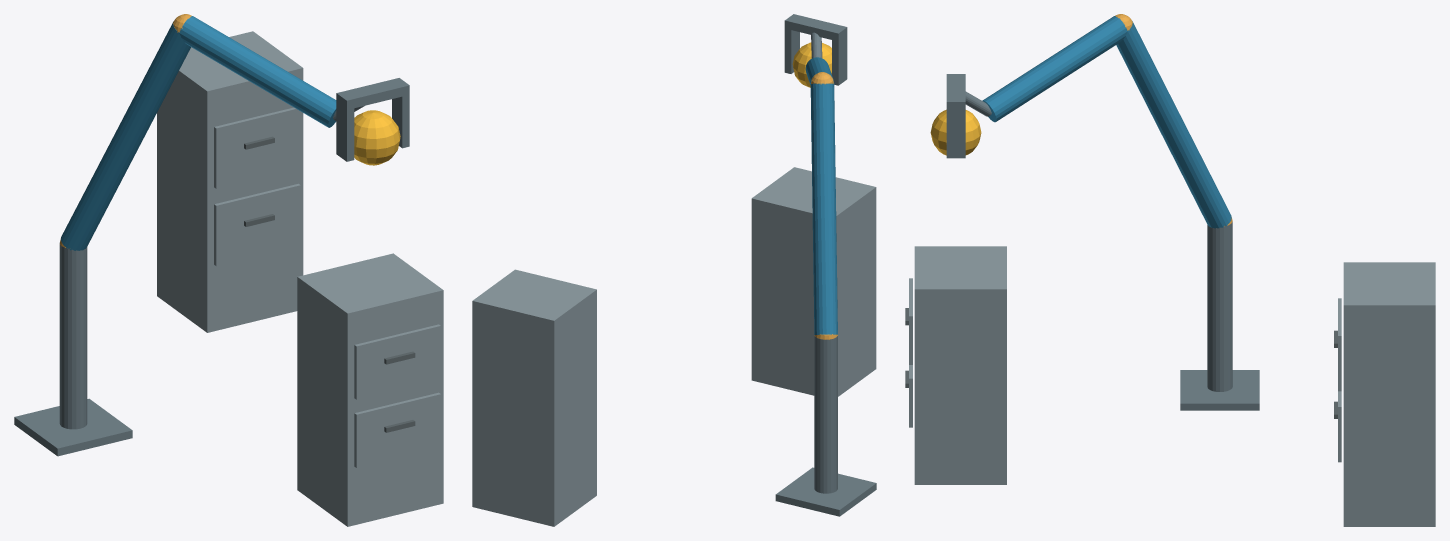
The picture shows the model from 3 angles, left to right: view 1: azimuth 30°, elevation 25°; view 2: azimuth 150°, elevation 25°; view 3: azimuth 270°, elevation 25°; orthographic projection. The views are drawn at different scales.
Visible parts, largest first — view 1: cabinet_1 body, cabinet_2 body, moving link 1, cabinet_2 drawer front, cabinet_2 drawer front.001, fixed post, moving link 2, cabinet_1 drawer front.001, cabinet_1 drawer front, pedestal, ball ball_1, gripper bridge (+2 smaller); view 2: cabinet_2 body, cabinet_1 body, moving link 1, fixed post, pedestal, gripper bridge, ball ball_1, gripper finger -1, gripper finger 1; view 3: cabinet_2 body, cabinet_1 body, moving link 1, fixed post, moving link 2, pedestal, ball ball_1, gripper finger 1, gripper bridge.
Part boxes in pixels (x1,y1,x2,y2): cabinet_1 body: [297, 253, 443, 526]; cabinet_2 body: [157, 31, 303, 332]; moving link 1: [60, 22, 190, 250]; cabinet_2 drawer front: [214, 183, 300, 266]; cabinet_2 drawer front.001: [214, 107, 300, 188]; fixed post: [59, 242, 87, 429]; moving link 2: [179, 16, 336, 127]; cabinet_1 drawer front.001: [354, 324, 440, 399]; cabinet_1 drawer front: [354, 392, 440, 467]; pedestal: [14, 398, 132, 456]; ball ball_1: [354, 110, 400, 165]; gripper bridge: [336, 78, 409, 109]; cabinet_2 body: [472, 269, 596, 526]; cabinet_1 body: [751, 167, 876, 396]; moving link 1: [810, 83, 837, 334]; fixed post: [814, 335, 837, 493]; pedestal: [775, 467, 876, 516]; gripper bridge: [784, 14, 847, 41]; ball ball_1: [792, 42, 831, 87]; gripper finger -1: [832, 35, 847, 85]; gripper finger 1: [784, 28, 799, 73]; cabinet_2 body: [1343, 262, 1435, 526]; cabinet_1 body: [914, 246, 1006, 484]; moving link 1: [1116, 21, 1231, 228]; fixed post: [1207, 222, 1232, 391]; moving link 2: [982, 16, 1127, 122]; pedestal: [1180, 370, 1259, 410]; ball ball_1: [930, 109, 981, 155]; gripper finger 1: [946, 110, 965, 158]; gripper bridge: [946, 74, 965, 110].
Size of the model in its own units: 1.12 by 1.41 by 1.67.
